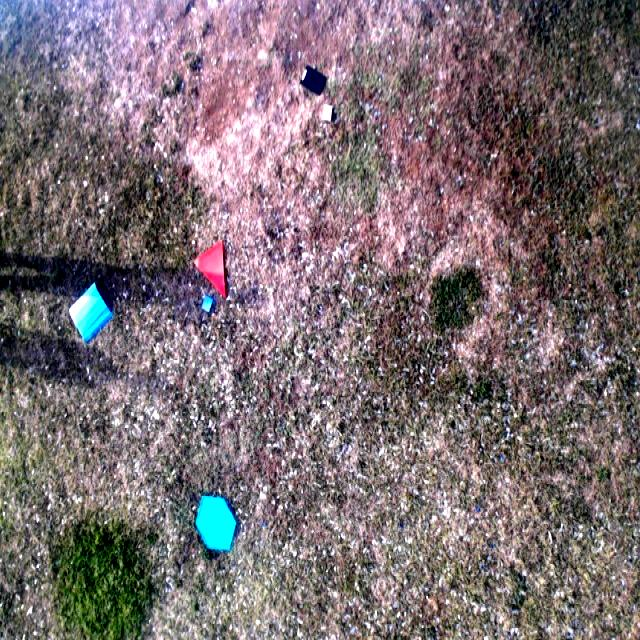blue_hexagon: (192, 494, 238, 553)
blue_square: (67, 282, 114, 346)
red_triangle: (193, 240, 227, 300)
